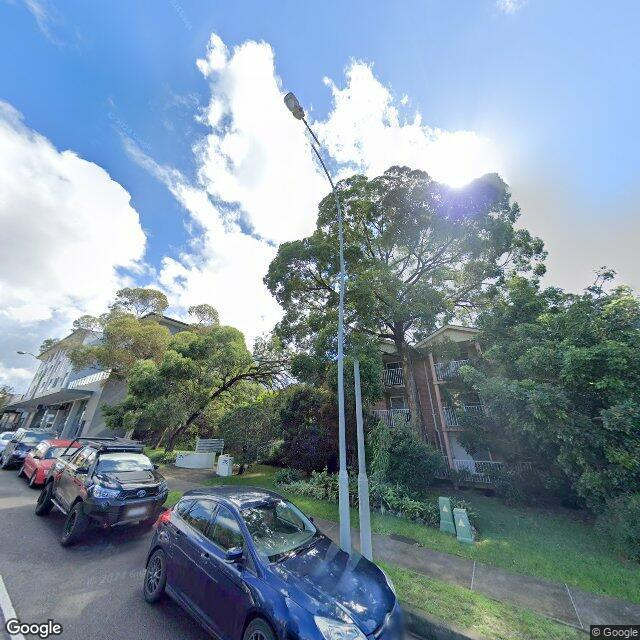steel-pole: (338, 198, 372, 560), (22, 365, 48, 428)
streetlight: (282, 91, 340, 208), (18, 350, 48, 366)
